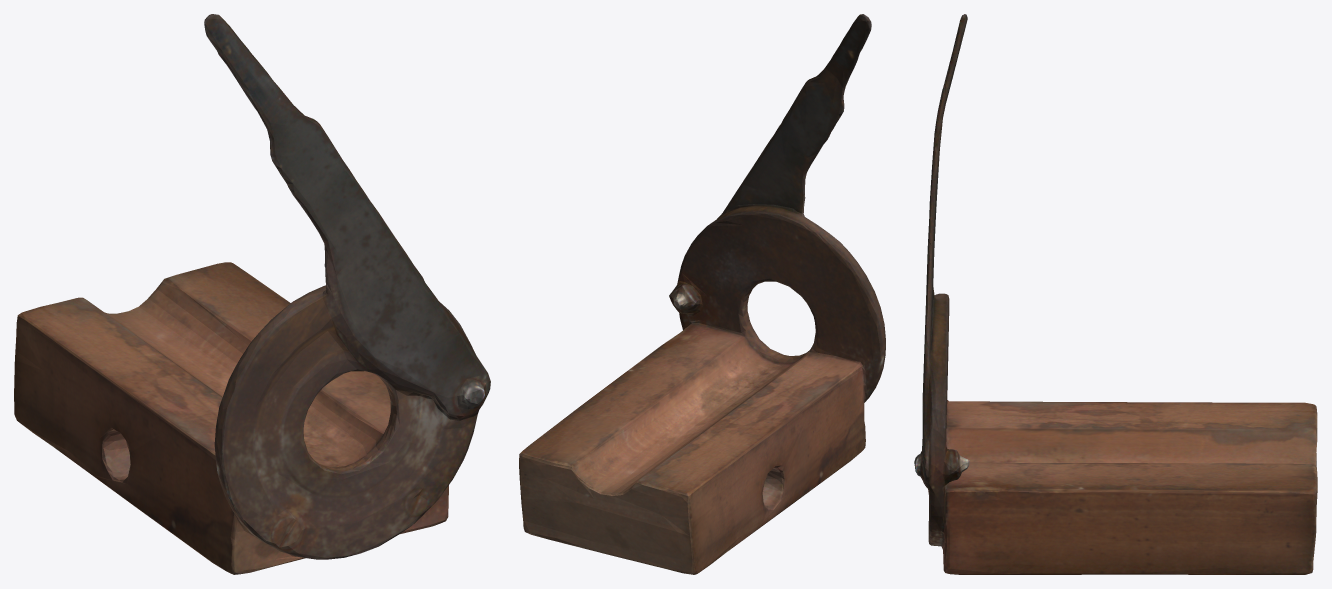
3 views of the same model, side by side, from view 1: azimuth 30°, elevation 25°; view 2: azimuth 150°, elevation 25°; view 3: azimuth 270°, elevation 25° (orthographic). The views are drawn at different scales.
Visible parts, largest first — view 1: Tabakschneidemaschine_3k_2k; view 2: Tabakschneidemaschine_3k_2k; view 3: Tabakschneidemaschine_3k_2k.
Boxes of the visible parts, bbox=[...] form: Tabakschneidemaschine_3k_2k: bbox=[14, 14, 490, 574]; Tabakschneidemaschine_3k_2k: bbox=[519, 14, 885, 574]; Tabakschneidemaschine_3k_2k: bbox=[914, 14, 1317, 574].
Bounding box in the file's own units: 0.0864 × 0.1732 × 0.1344.
1 material, 1 textured.
